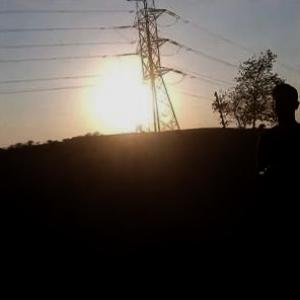follow: (249, 80, 300, 299)
